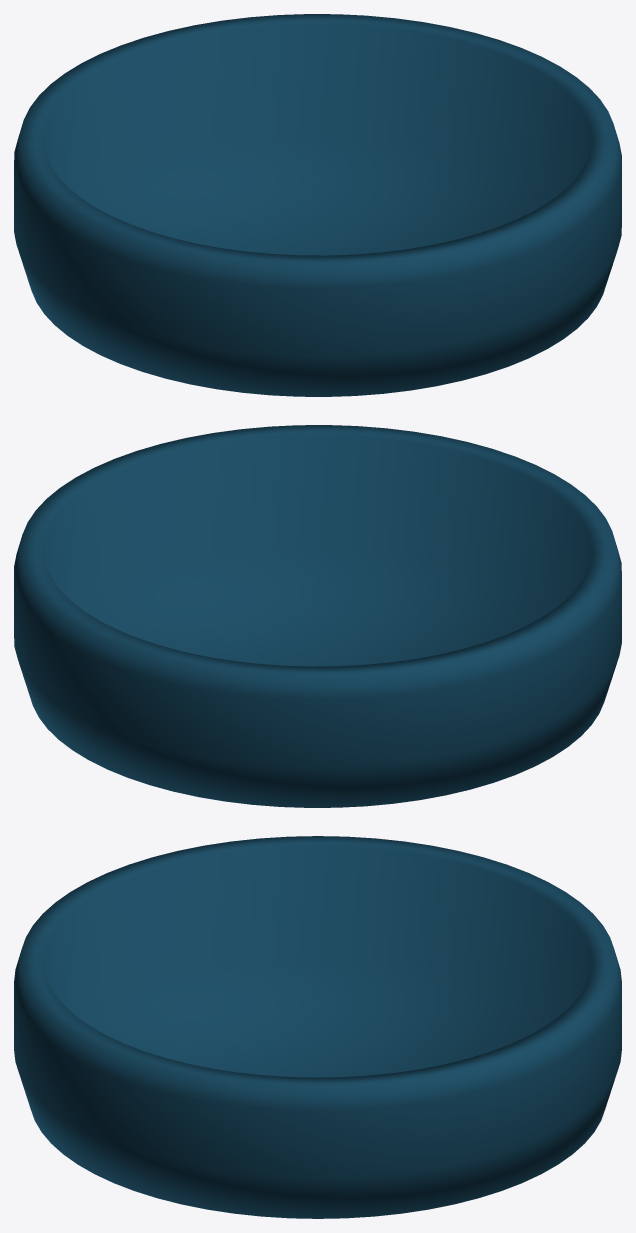
File: pantry_contents__loose_blue_cap.glb
The picture shows the model from 3 angles, top to bottom: view 1: azimuth 30°, elevation 25°; view 2: azimuth 150°, elevation 25°; view 3: azimuth 270°, elevation 25°; orthographic projection.
Parts seen in each view (by area): view 1: loose_blue_cap__body; view 2: loose_blue_cap__body; view 3: loose_blue_cap__body.
Part boxes in pixels (box(x1,y1,x2,y2)): loose_blue_cap__body: box(14, 14, 621, 396); loose_blue_cap__body: box(14, 425, 621, 807); loose_blue_cap__body: box(14, 836, 621, 1218).
Bounding box in the file's own units: 0.049 × 0.012 × 0.049.
